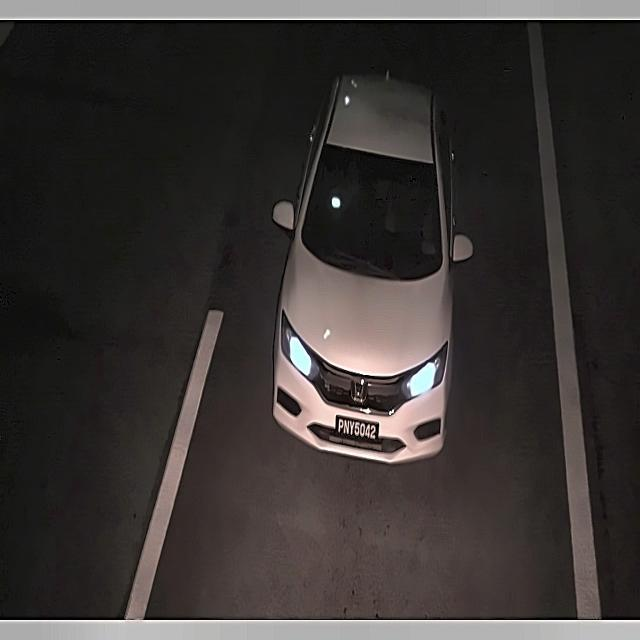car: (330, 409, 383, 449)
